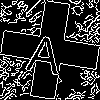A: (25, 25, 66, 76)
